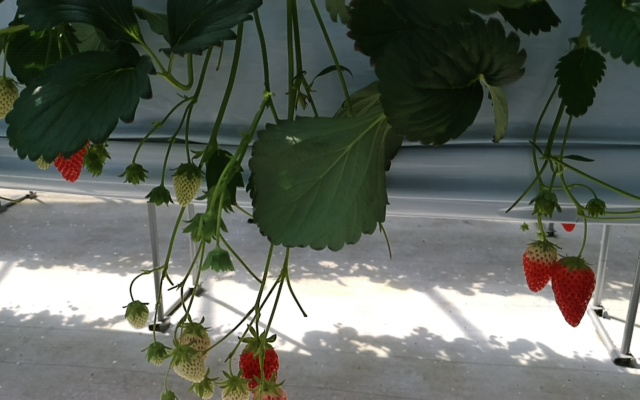GreenStrawberry: (170, 162, 203, 211), (176, 321, 212, 365), (171, 345, 206, 384), (1, 74, 24, 123), (124, 300, 150, 332), (219, 375, 252, 400), (142, 342, 171, 368), (193, 373, 218, 400)
MatureStrawberry: (550, 256, 598, 330), (238, 331, 282, 395), (53, 121, 92, 187), (521, 238, 557, 295)
